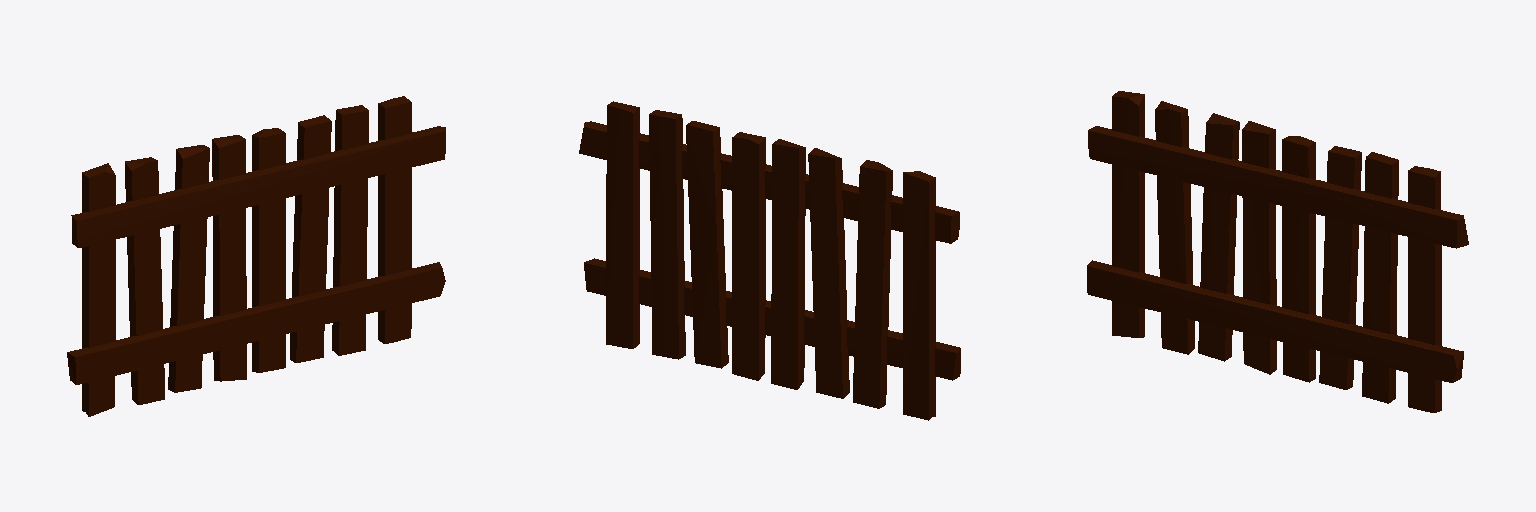
Rendered from barriere.obj.
The picture shows the model from 3 angles: view 1: azimuth 30°, elevation 25°; view 2: azimuth 150°, elevation 25°; view 3: azimuth 330°, elevation 25°; orthographic projection.
Parts seen in each view (by area): view 1: Cube.001, Cube, Cube.003, Cube.009, Cube.002, Cube.004, Cube.006, Cube.008, Cube.007, Cube.005; view 2: Cube.004, Cube.005, Cube.003, Cube.007, Cube.006, Cube.002, Cube.008, Cube.009, Cube, Cube.001; view 3: Cube, Cube.001, Cube.003, Cube.008, Cube.006, Cube.002, Cube.004, Cube.005, Cube.007, Cube.009.
Boxes of the visible parts, box(x1,y1,x2,y2) form: Cube.001: box(67, 262, 445, 384); Cube: box(71, 126, 445, 247); Cube.003: box(332, 105, 368, 355); Cube.009: box(82, 163, 115, 416); Cube.002: box(378, 96, 411, 343); Cube.004: box(290, 115, 331, 362); Cube.006: box(212, 135, 246, 381); Cube.008: box(125, 157, 164, 404); Cube.007: box(168, 145, 209, 392); Cube.005: box(252, 128, 285, 372); Cube.004: box(686, 121, 728, 368); Cube.005: box(732, 132, 765, 380); Cube.003: box(649, 110, 685, 359); Cube.007: box(808, 148, 849, 398); Cube.006: box(771, 139, 805, 389); Cube.002: box(606, 101, 639, 348); Cube.008: box(853, 160, 892, 408); Cube.009: box(903, 171, 935, 420); Cube: box(579, 121, 959, 243); Cube.001: box(584, 258, 960, 380); Cube: box(1088, 126, 1468, 248); Cube.001: box(1087, 260, 1463, 382); Cube.003: box(1362, 152, 1398, 403); Cube.008: box(1155, 101, 1194, 354); Cube.006: box(1242, 121, 1276, 374); Cube.002: box(1408, 166, 1441, 412); Cube.004: box(1319, 146, 1361, 389); Cube.005: box(1282, 136, 1315, 382); Cube.007: box(1198, 113, 1239, 361); Cube.009: box(1112, 91, 1144, 337).
Bounding box in the file's own units: 2.09 × 1.3 × 0.1266.